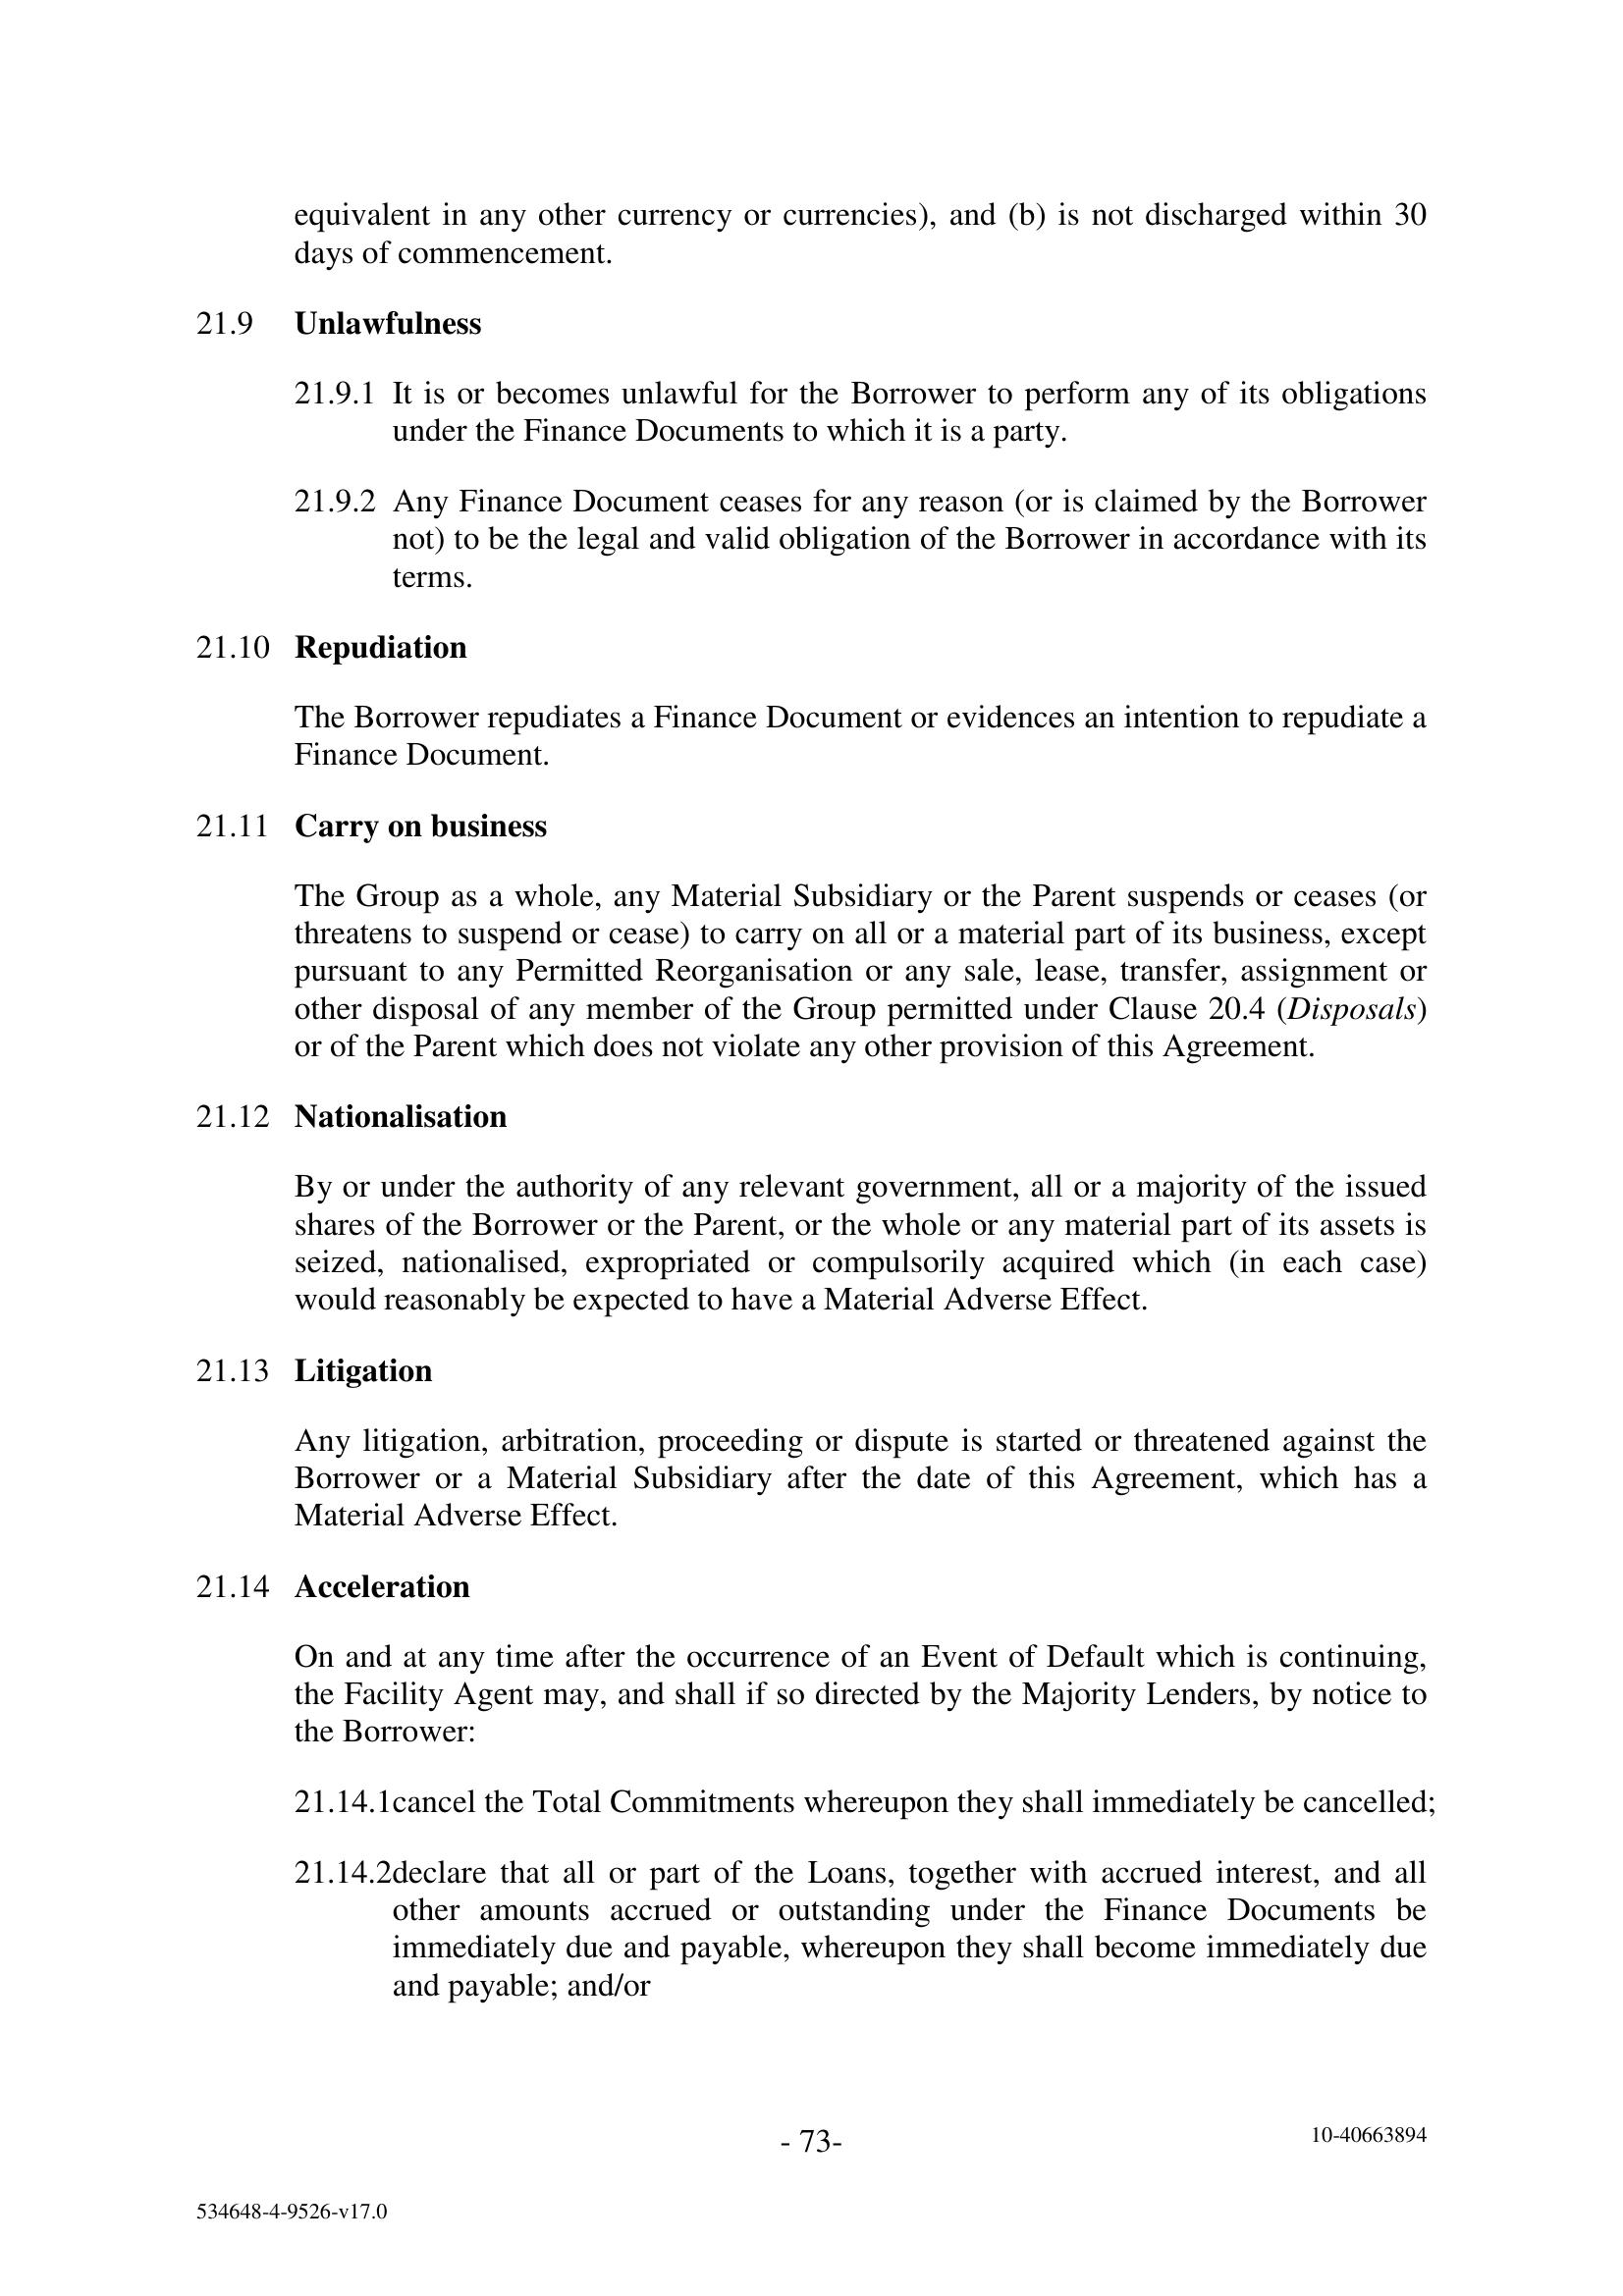pageno: (704, 2087, 906, 2217)
tag: (1194, 2073, 1537, 2206), (114, 2171, 457, 2270)
